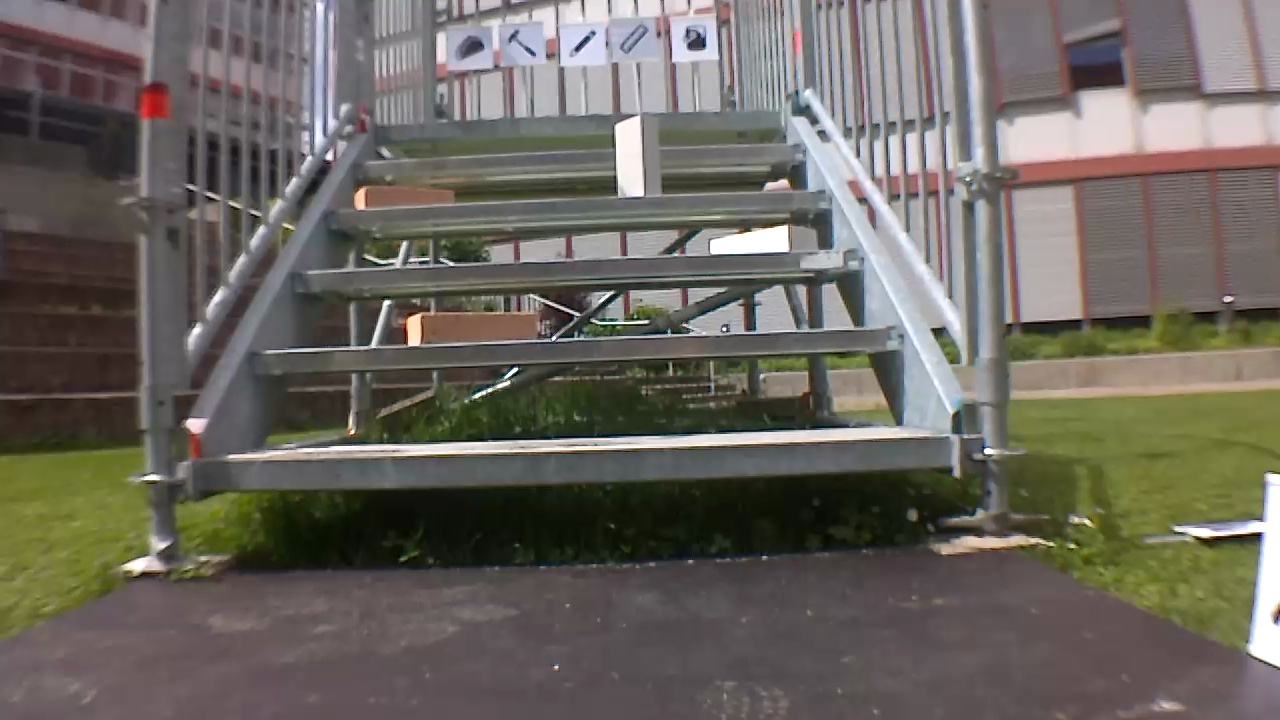brick: (405, 312, 536, 343), (614, 114, 661, 195), (709, 222, 816, 254), (355, 186, 452, 209)
bucket: (677, 20, 708, 54)
edge: (210, 434, 953, 483), (252, 328, 901, 371), (293, 250, 866, 286), (326, 190, 826, 221), (354, 144, 807, 178), (374, 111, 780, 137)
hammer: (501, 27, 542, 60)
pencil: (565, 26, 599, 61)
ruler: (615, 22, 650, 54)
stairs: (115, 2, 1039, 563)
steps: (193, 105, 965, 494)
taco: (449, 31, 487, 64)
